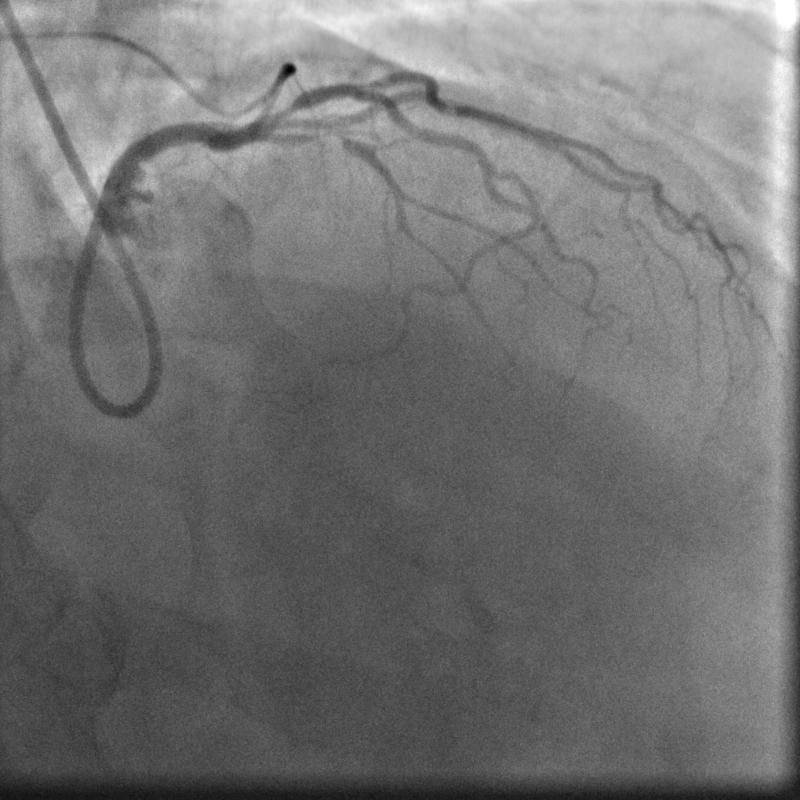Stenosis: (267, 103, 304, 128)
